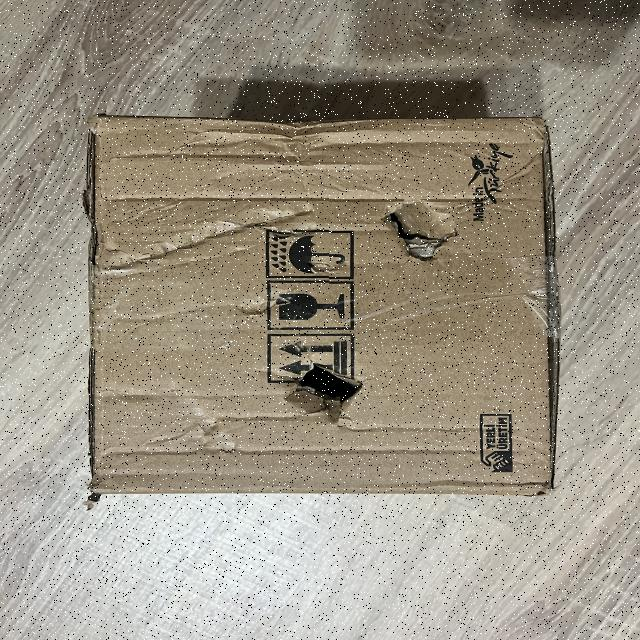damaged: (74, 103, 571, 506), (112, 195, 329, 284), (277, 351, 372, 429), (377, 189, 458, 275), (235, 110, 374, 150)
